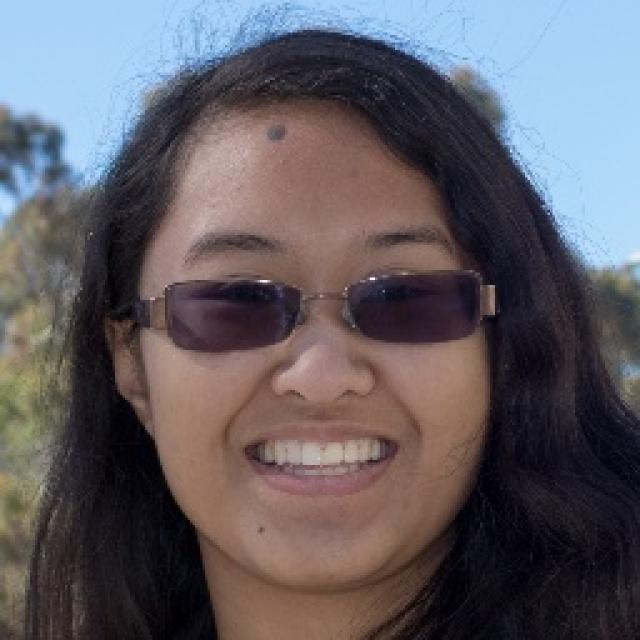earlobe: (101, 316, 156, 442)
